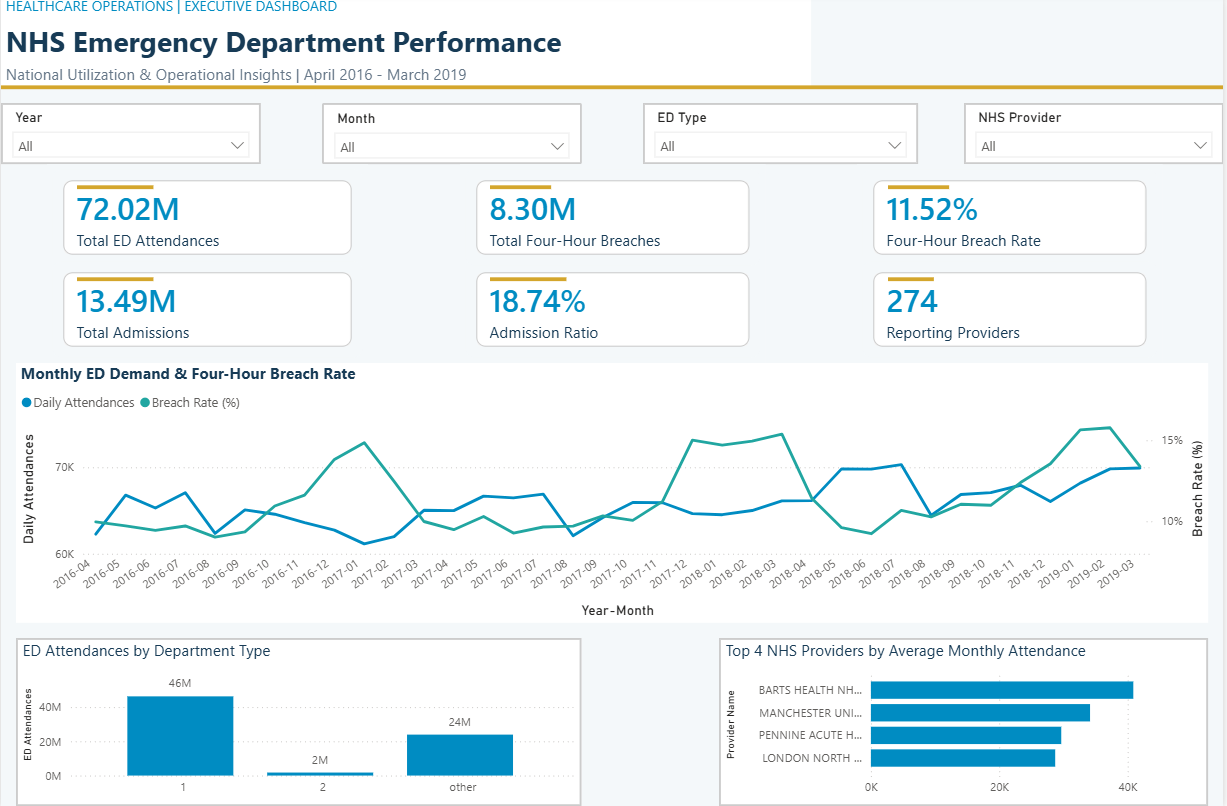

The page's visual inventory and layout, read from the dashboard file:
{"tool":"powerbi","page":{"name":"Page 1","canvas":[1280,850],"ordinal":0},"visuals":[{"type":"slicer","fields":{"Values":["DateTable.Year"]},"box":[0,112,272,64],"z":0},{"type":"slicer","fields":{"Values":["DateTable.Month"]},"box":[336,112,272,64],"z":1},{"type":"slicer","fields":{"Values":["nhs_er_activity.type"]},"box":[672,112,288,64],"z":2},{"type":"slicer","fields":{"Values":["nhs_providers.organisation_name"]},"box":[1008,112,272,64],"z":3},{"type":"cardVisual","fields":{"Data":["_Measures.Total ED Attendances"]},"box":[48,176,336,112],"z":4},{"type":"cardVisual","fields":{"Data":["_Measures.Four-Hour Breach Rate"]},"box":[896,176,320,112],"z":5},{"type":"cardVisual","fields":{"Data":["_Measures.Total Admissions"]},"box":[48,272,336,112],"z":6},{"type":"cardVisual","fields":{"Data":["_Measures.Admission Ratio"]},"box":[480,272,320,112],"z":7},{"type":"cardVisual","fields":{"Data":["_Measures.Reporting Providers"]},"box":[896,272,320,112],"z":8},{"type":"cardVisual","fields":{"Data":["_Measures.Total Four-Hour Breaches"]},"box":[480,176,320,112],"z":9},{"type":"lineChart","title":"Monthly ED Demand & Four-Hour Breach Rate","fields":{"Category":["DateTable.Year-Month"],"Y":["_Measures.Average Daily ED Attendances"],"Y2":["_Measures.Four-Hour Breach Rate"]},"box":[16,384,1248,272],"z":10},{"type":"textbox","title":"HEALTHCARE OPERATIONS | EXECUTIVE DASHBOARD","box":[0,0,848,96],"z":11},{"type":"clusteredColumnChart","title":"ED Attendances by Department Type","fields":{"Category":["nhs_er_activity.type"],"Y":["_Measures.Total ED Attendances"]},"box":[16,672,592,176],"z":12},{"type":"clusteredBarChart","title":"Top 4 NHS Providers by Average Monthly Attendance","fields":{"Category":["nhs_providers.organisation_name"],"Y":["_Measures.Average Monthly ED Attendances"]},"box":[752,672,512,176],"z":13},{"type":"shape","box":[0,80,1280,32],"z":14},{"type":"shape","box":[80,160,80,80],"z":15},{"type":"shape","box":[928,256,48,80],"z":16},{"type":"shape","box":[512,256,80,80],"z":17},{"type":"shape","box":[80,256,80,80],"z":18},{"type":"shape","box":[928,160,64,80],"z":19},{"type":"shape","box":[512,160,64,80],"z":20}]}

Visuals, with their boxes in screenshot pixels (x1, y1, x2, y2), scaled from the page's 1280x850 canvas onto the 1227x806 screenshot:
slicer - DateTable.Year: 0 106 261 167
slicer - DateTable.Month: 322 106 583 167
slicer - nhs_er_activity.type: 644 106 920 167
slicer - nhs_providers.organisation_name: 966 106 1226 167
cardVisual - _Measures.Total ED Attendances: 46 167 368 273
cardVisual - _Measures.Four-Hour Breach Rate: 859 167 1166 273
cardVisual - _Measures.Total Admissions: 46 258 368 364
cardVisual - _Measures.Admission Ratio: 460 258 767 364
cardVisual - _Measures.Reporting Providers: 859 258 1166 364
cardVisual - _Measures.Total Four-Hour Breaches: 460 167 767 273
"Monthly ED Demand & Four-Hour Breach Rate" lineChart: 15 364 1212 622
"HEALTHCARE OPERATIONS | EXECUTIVE DASHBOARD" textbox: 0 0 813 91
"ED Attendances by Department Type" clusteredColumnChart: 15 637 583 804
"Top 4 NHS Providers by Average Monthly Attendance" clusteredBarChart: 721 637 1212 804
shape: 0 76 1226 106
shape: 77 152 153 228
shape: 890 243 936 319
shape: 491 243 567 319
shape: 77 243 153 319
shape: 890 152 951 228
shape: 491 152 552 228
